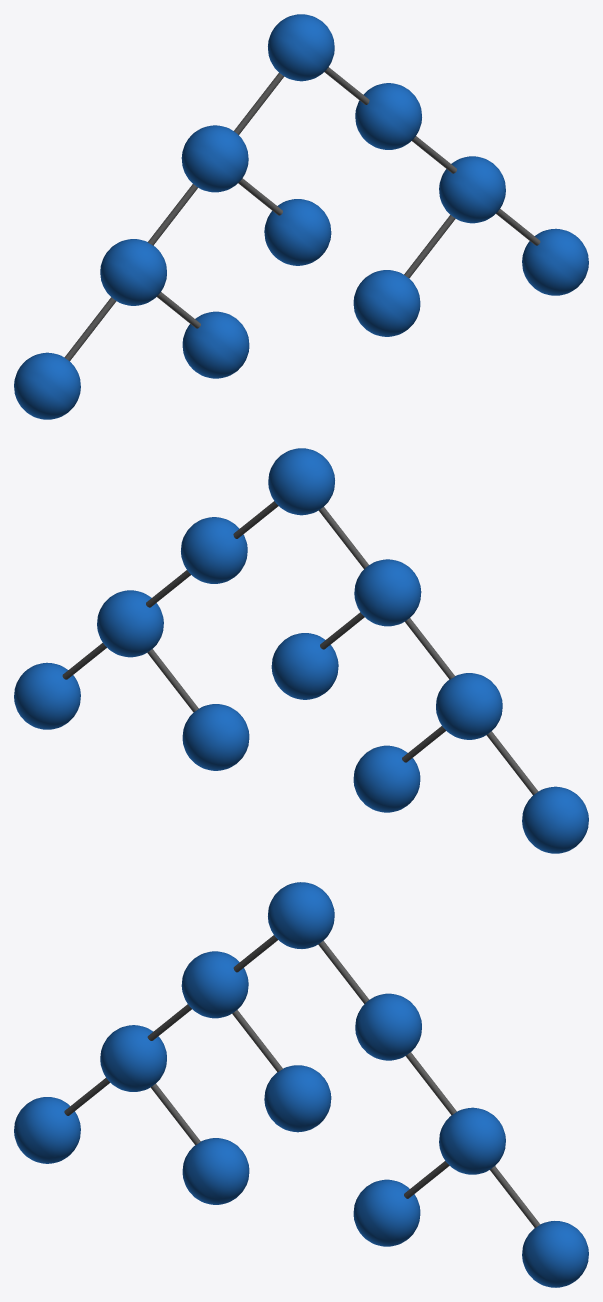
Rendered from bst.gltf.
The picture shows the model from 3 angles, top to bottom: view 1: azimuth 30°, elevation 25°; view 2: azimuth 150°, elevation 25°; view 3: azimuth 330°, elevation 25°; orthographic projection.
Parts seen in each view (by area): view 1: Cylinder.008; view 2: Cylinder.008; view 3: Cylinder.008.
Part boxes in pixels (left/top/right/bottom): Cylinder.008: left=14, top=14, right=588, bottom=419; Cylinder.008: left=14, top=448, right=588, bottom=853; Cylinder.008: left=14, top=882, right=588, bottom=1287.
Size of the model in its own units: 19.48 by 11.1 by 2.
